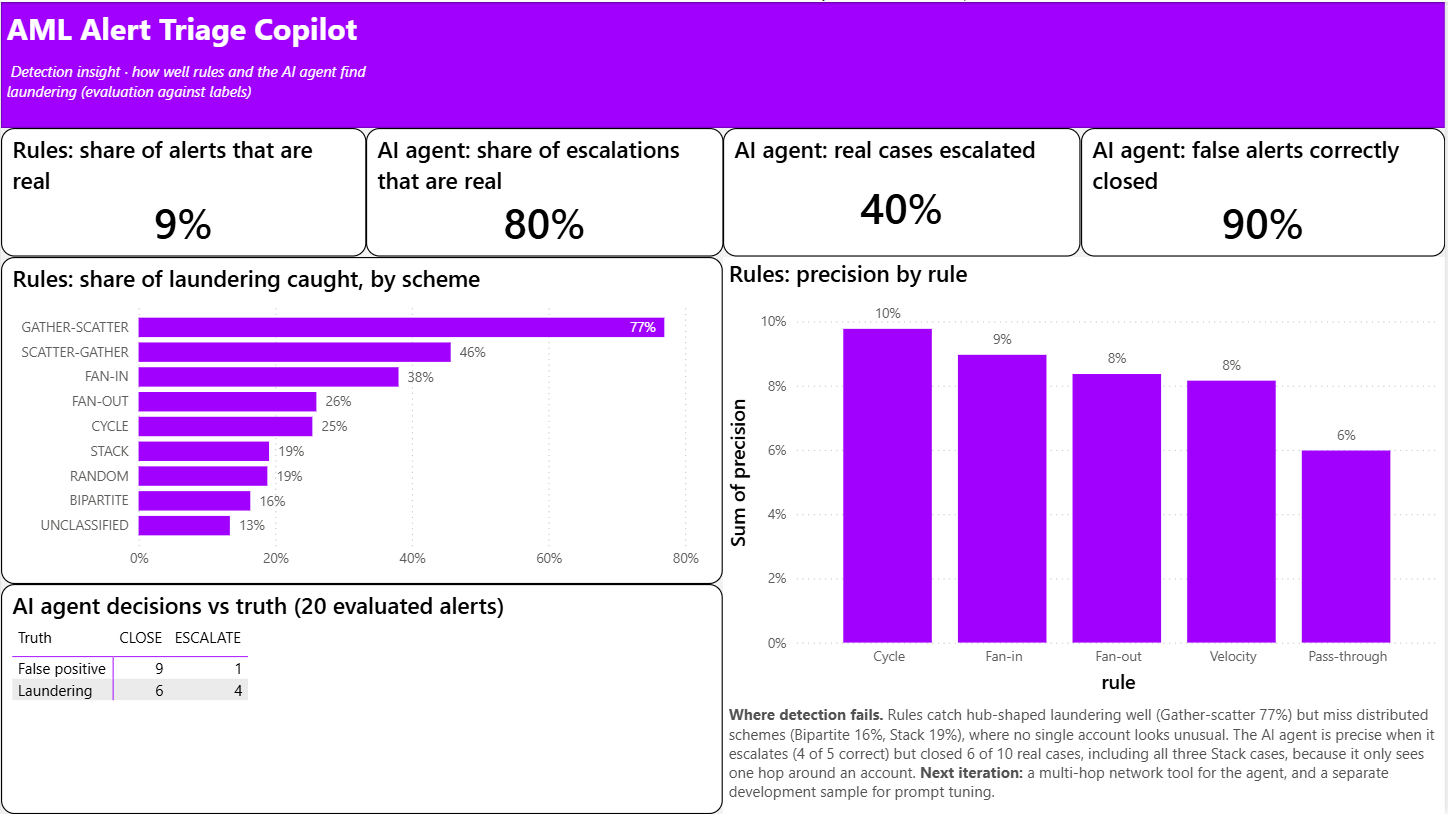

This screenshot's page, from the dashboard's own definition file:
{"tool":"powerbi","page":{"name":"Detection insight","canvas":[1280,720],"ordinal":2},"visuals":[{"type":"card","title":"Rules: share of alerts that are real","fields":{"Values":["eval_summary.Rules Precision"]},"box":[0,111.7,323.6,114.4],"z":0},{"type":"shape","box":[0,0,1280.4,111.7],"z":1000},{"type":"textbox","box":[0,0,336.1,47.9],"z":2000},{"type":"textbox","box":[0,47.9,336.1,47],"z":3000},{"type":"card","title":"AI agent: share of escalations that are real","fields":{"Values":["eval_summary.Agent Precision Sample"]},"box":[323.6,111.7,316.6,114.4],"z":4000},{"type":"card","title":"AI agent: real cases escalated","fields":{"Values":["eval_summary.Agent Recall"]},"box":[640.2,111.7,316.6,114.4],"z":5000},{"type":"card","title":"AI agent: false alerts correctly closed","fields":{"Values":["eval_summary.Agent Specificity"]},"box":[957.6,111.7,322.8,114.4],"z":6000},{"type":"clusteredBarChart","title":"Rules: share of laundering caught, by scheme","fields":{"Category":["rule_recall_by_pattern.pattern_type"],"Y":["Sum(rule_recall_by_pattern.rule_recall)"]},"box":[0,226.1,640.2,290],"z":7000},{"type":"pivotTable","title":"AI agent decisions vs truth (20 evaluated alerts)","fields":{"Rows":["pbi_alert_queue.Truth"],"Values":["pbi_alert_queue.Alerts"],"Columns":["pbi_alert_queue.agent_decision"]},"box":[0,516.1,640.2,203.9],"z":8000},{"type":"clusteredColumnChart","title":"Rules: precision by rule","fields":{"Category":["rule_precision_by_rule.rule"],"Y":["Sum(rule_precision_by_rule.precision)"]},"box":[640.2,226.1,640.2,391.9],"z":9000},{"type":"textbox","box":[640.2,618,640.2,102],"z":10000}]}

Visuals, with their boxes in screenshot pixels (x1, y1, x2, y2), scaled from the page's 1280x720 canvas onto the 1448x814 screenshot:
"Rules: share of alerts that are real" card: BBox(0, 126, 366, 256)
shape: BBox(0, 0, 1447, 126)
textbox: BBox(0, 0, 380, 54)
textbox: BBox(0, 54, 380, 107)
"AI agent: share of escalations that are real" card: BBox(366, 126, 724, 256)
"AI agent: real cases escalated" card: BBox(724, 126, 1082, 256)
"AI agent: false alerts correctly closed" card: BBox(1083, 126, 1447, 256)
"Rules: share of laundering caught, by scheme" clusteredBarChart: BBox(0, 256, 724, 583)
"AI agent decisions vs truth (20 evaluated alerts)" pivotTable: BBox(0, 583, 724, 813)
"Rules: precision by rule" clusteredColumnChart: BBox(724, 256, 1447, 699)
textbox: BBox(724, 699, 1447, 813)
